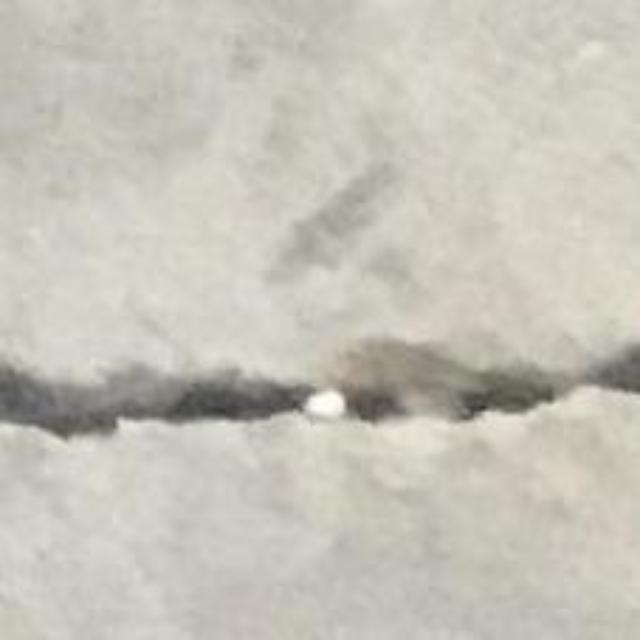crack: (0, 339, 639, 434)
